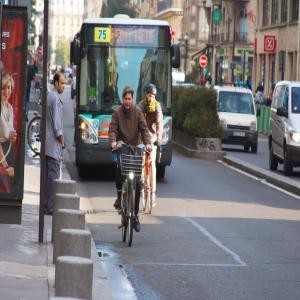Vehicle-registration-plate: (233, 131, 246, 138)
